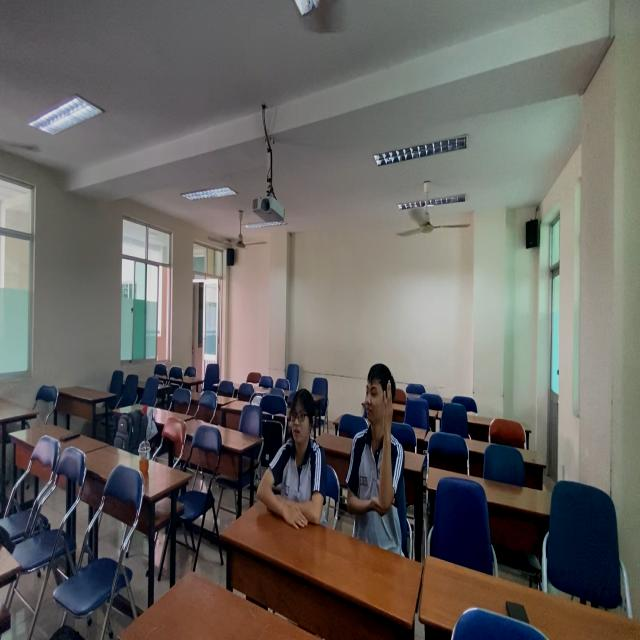raise_hand: (346, 361, 409, 561)
